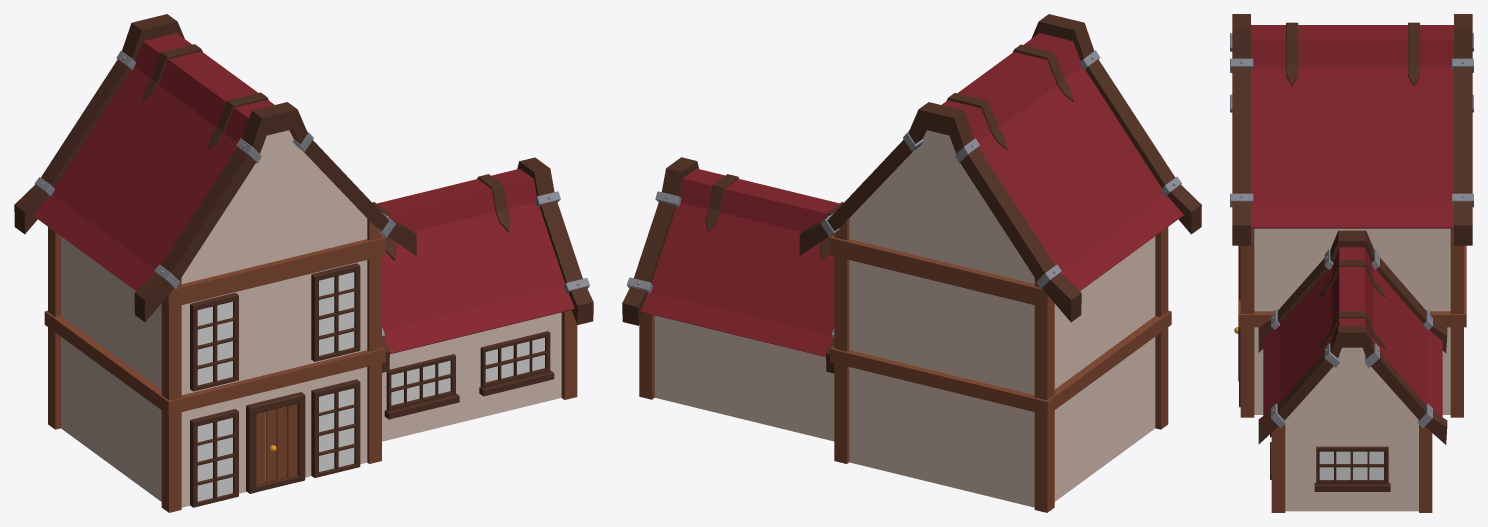
Rendered from Armory_Base (1).fbx.
3 renders of one model, left to right at view 1: azimuth 30°, elevation 25°; view 2: azimuth 150°, elevation 25°; view 3: azimuth 270°, elevation 25°, orthographic. The views are drawn at different scales.
Visible parts, largest first — view 1: Light; view 2: Light; view 3: Light.
Part boxes in pixels (x1,y1,x2,y2): Light: (14, 14, 593, 512); Light: (622, 14, 1201, 512); Light: (1230, 14, 1473, 512).
Bounding box in the file's own units: 990 × 764 × 485.
